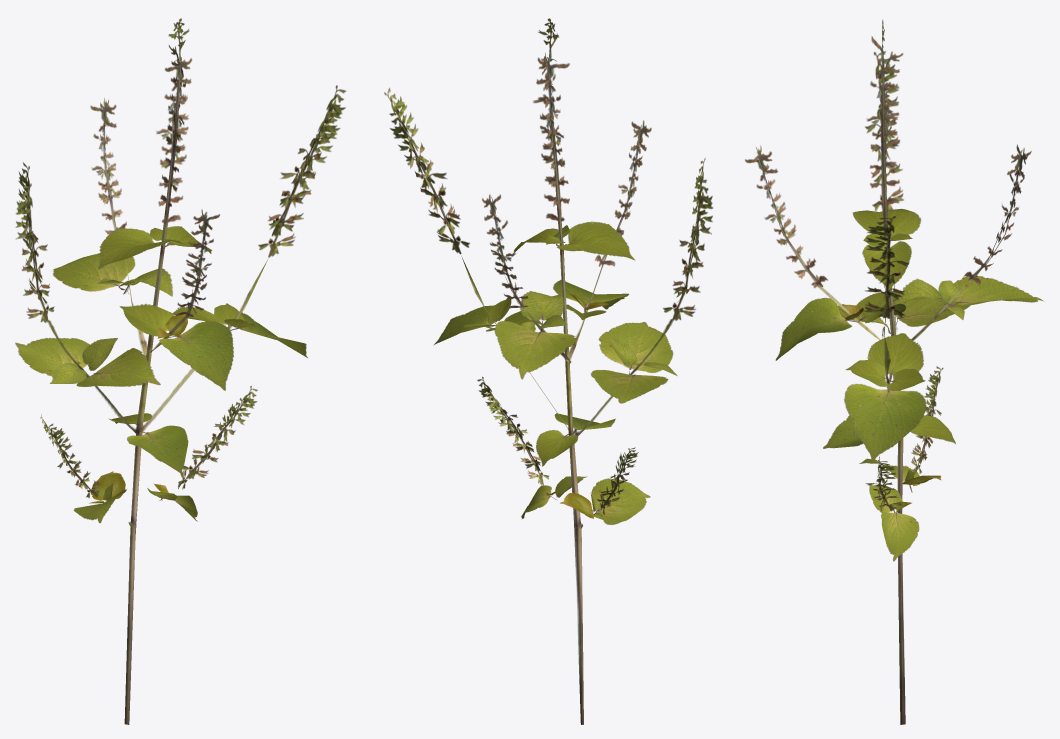
File: shrub.glb
The picture shows the model from 3 angles, left to right: view 1: azimuth 30°, elevation 25°; view 2: azimuth 150°, elevation 25°; view 3: azimuth 270°, elevation 25°; orthographic projection. The views are drawn at different scales.
Parts seen in each view (by area): view 1: shrub_03_a_LOD0; view 2: shrub_03_a_LOD0; view 3: shrub_03_a_LOD0.
Boxes of the visible parts, x1,y1,x2,y2 form: shrub_03_a_LOD0: [15, 18, 345, 724]; shrub_03_a_LOD0: [384, 18, 713, 724]; shrub_03_a_LOD0: [745, 19, 1043, 724].
Size of the model in its own units: 0.7462 by 1.5 by 0.562.
Materials: 1 (1 with a texture image).
